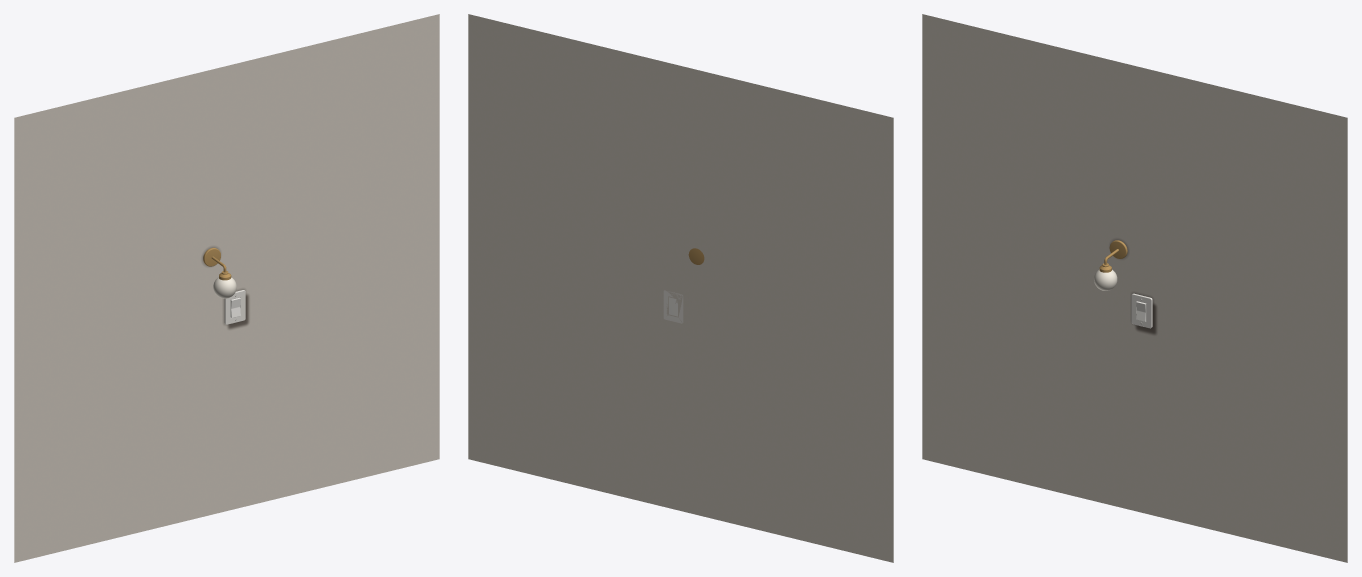
File: switch.glb
The picture shows the model from 3 angles, left to right: view 1: azimuth 30°, elevation 25°; view 2: azimuth 150°, elevation 25°; view 3: azimuth 330°, elevation 25°; orthographic projection.
Parts seen in each view (by area): view 1: Wall; view 2: Wall; view 3: Wall.
Part boxes in pixels (x1,y1,x2,y2): Wall: (14, 14, 439, 562); Wall: (468, 14, 893, 562); Wall: (922, 14, 1347, 562).
Size of the model in its own units: 1.8 by 1.8 by 0.143.
Materials: 10 (4 with a texture image).
